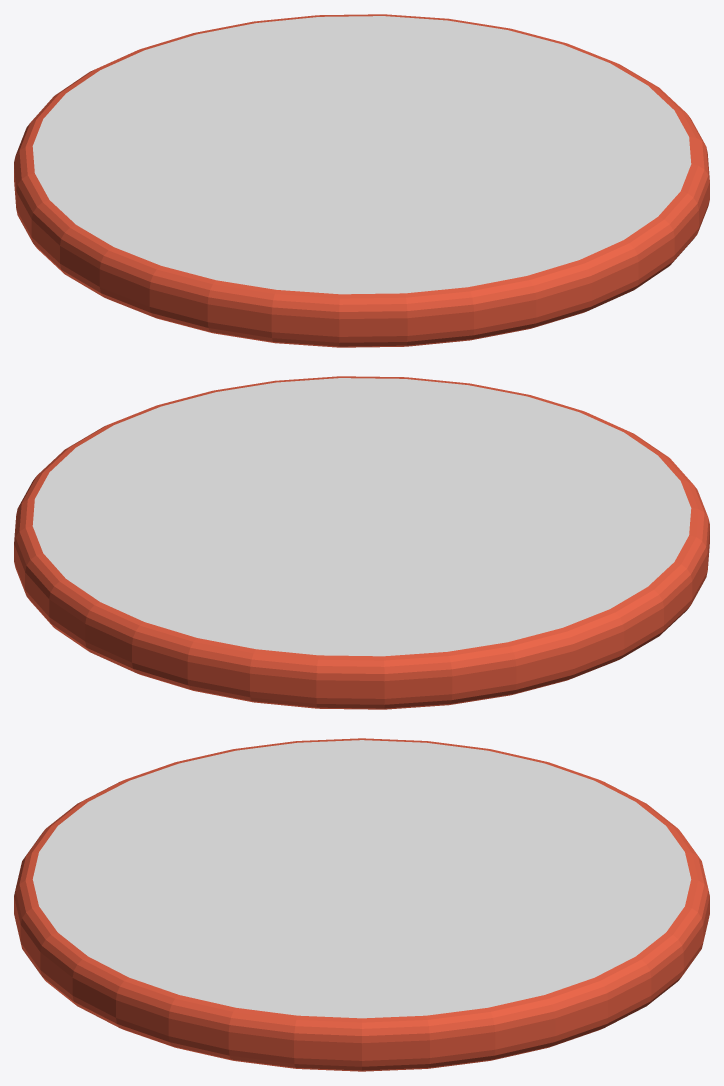
Rendered from ground.fbx.
3 renders of one model, top to bottom at view 1: azimuth 30°, elevation 25°; view 2: azimuth 150°, elevation 25°; view 3: azimuth 270°, elevation 25°, orthographic.
Parts seen in each view (by area): view 1: Circle; view 2: Circle; view 3: Circle.
Boxes of the visible parts, bbox=[...] form: Circle: bbox=[14, 14, 709, 347]; Circle: bbox=[14, 376, 709, 709]; Circle: bbox=[14, 738, 709, 1071].
Bounding box in the file's own units: 679 × 55.51 × 679.
